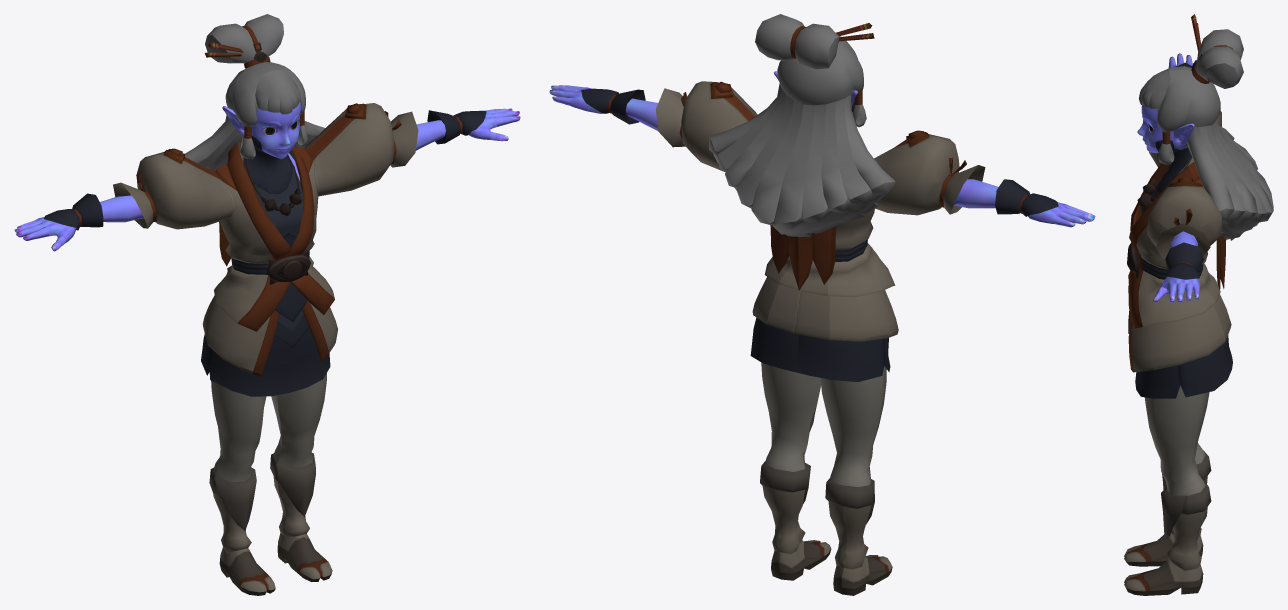
The model's file is Paya.obj.
3 views of the same model, side by side, from view 1: azimuth 30°, elevation 25°; view 2: azimuth 150°, elevation 25°; view 3: azimuth 270°, elevation 25° (orthographic). The views are drawn at different scales.
Parts seen in each view (by area): view 1: Body_01__Mt_Body, Hair_01__Mt_Hair, Eyebrow__Mt_Face_Layer_2; view 2: Body_01__Mt_Body, Hair_01__Mt_Hair, Eyebrow__Mt_Face_Layer_2; view 3: Body_01__Mt_Body, Hair_01__Mt_Hair, Eyebrow__Mt_Face_Layer_2.
Boxes of the visible parts, box(x1,y1,x2,y2) form: Body_01__Mt_Body: box(44, 25, 486, 595); Hair_01__Mt_Hair: box(185, 14, 325, 171); Eyebrow__Mt_Face_Layer_2: box(14, 102, 520, 251); Body_01__Mt_Body: box(581, 23, 1058, 595); Hair_01__Mt_Hair: box(709, 14, 895, 237); Eyebrow__Mt_Face_Layer_2: box(549, 71, 1095, 227); Body_01__Mt_Body: box(1124, 14, 1232, 595); Hair_01__Mt_Hair: box(1138, 29, 1273, 240); Eyebrow__Mt_Face_Layer_2: box(1137, 53, 1199, 302).
Bounding box in the file's own units: 1.95 × 1.97 × 0.4993.
7 materials, 7 textured.
